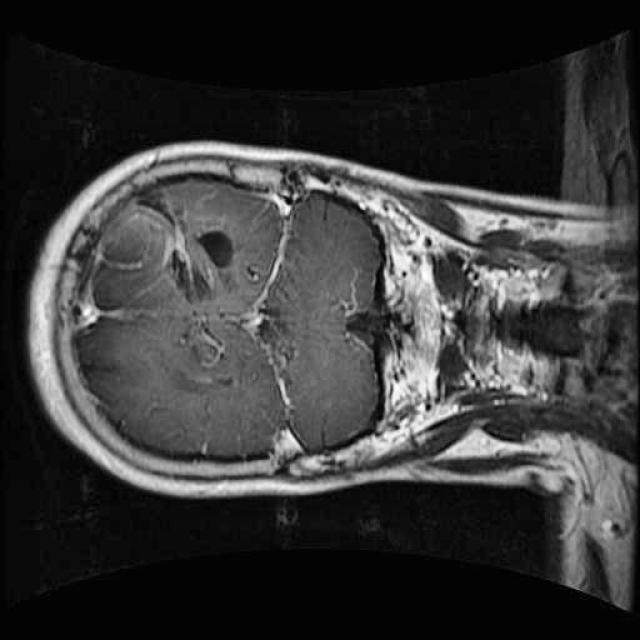Non-Tumor: (73, 175, 262, 345)
